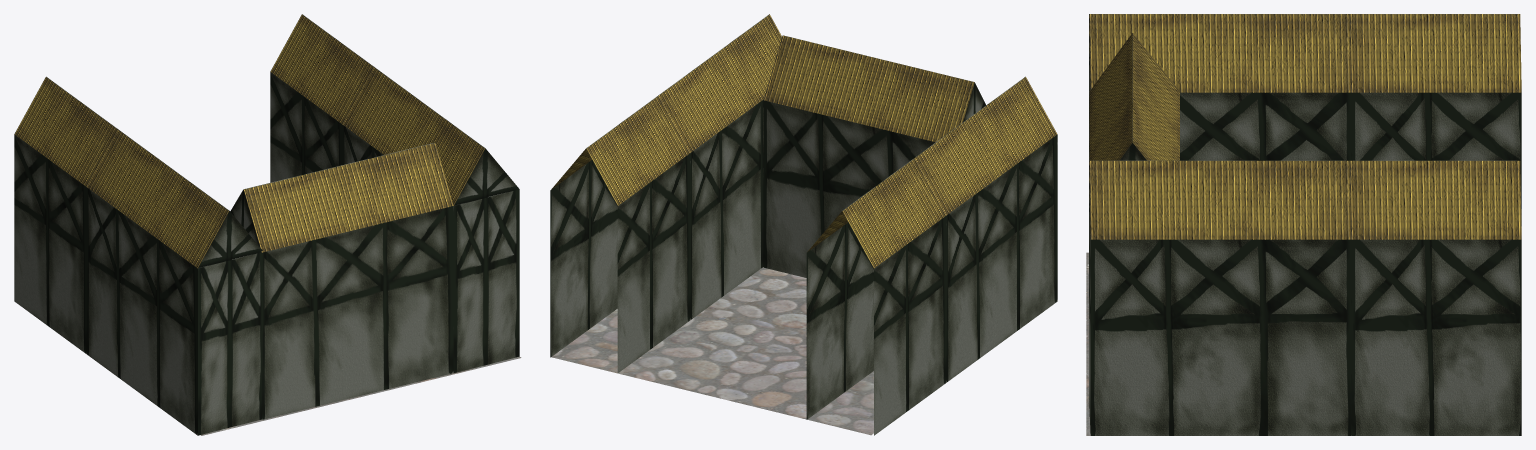
The model's file is 3-5_Dead_End_v2.fbx.
3 views of the same model, side by side, from view 1: azimuth 30°, elevation 25°; view 2: azimuth 150°, elevation 25°; view 3: azimuth 270°, elevation 25° (orthographic). The views are drawn at different scales.
Visible parts, largest first — view 1: Dead_End_comb2; view 2: Dead_End_comb2; view 3: Dead_End_comb2.
Boxes of the visible parts, box(x1,y1,x2,y2) form: Dead_End_comb2: box(14, 14, 521, 435); Dead_End_comb2: box(550, 14, 1057, 435); Dead_End_comb2: box(1086, 14, 1521, 435).
Size of the model in its own units: 101 by 64.88 by 100.
2 materials, 2 textured.
